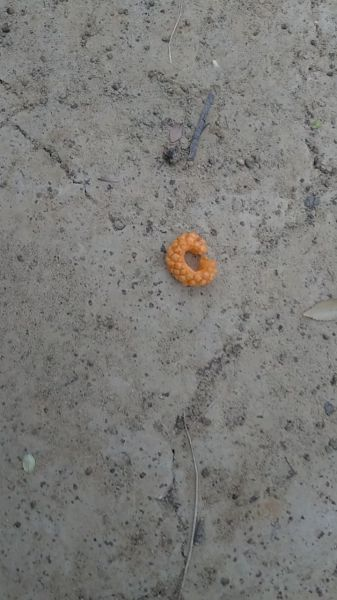eggs: (161, 223, 224, 291)
